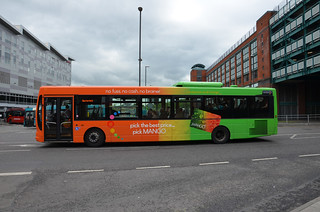bus: (34, 86, 276, 144)
